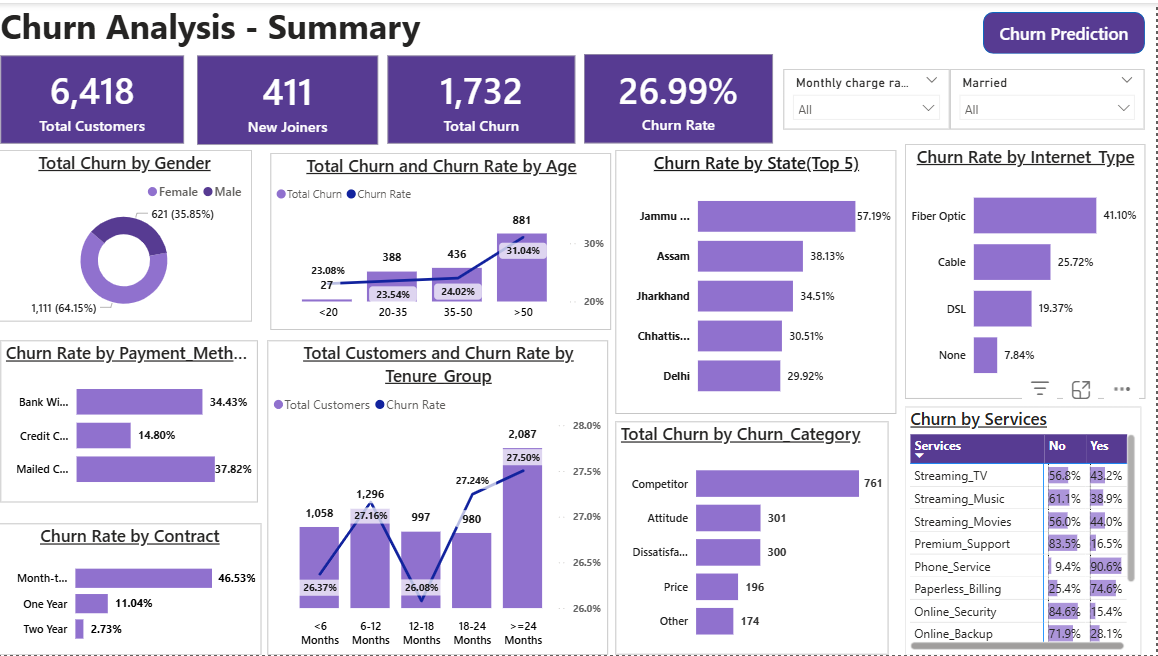

This screenshot's page, from the dashboard's own definition file:
{"tool":"powerbi","page":{"name":"Summary","canvas":[1280,720],"ordinal":0},"visuals":[{"type":"card","fields":{"Values":["tbl_measures.Churn Rate"]},"box":[650,56.2,208.8,98.8],"z":0},{"type":"card","fields":{"Values":["tbl_measures.Total Churn"]},"box":[432.5,57.5,207.5,97.5],"z":1000},{"type":"card","fields":{"Values":["tbl_measures.New Joiners"]},"box":[221.2,57.5,200,98.8],"z":2000},{"type":"card","fields":{"Values":["tbl_measures.Total Customers"]},"box":[5,57.5,202.5,97.5],"z":3000},{"type":"donutChart","fields":{"Category":["prod_Churn.Gender"],"Y":["tbl_measures.Total Churn"]},"box":[0,162.6,282.5,189.5],"z":4000},{"type":"lineStackedColumnComboChart","title":"Total Churn and Churn Rate by Age","fields":{"Category":["mapping_agegrp.Age_Group"],"Y":["tbl_measures.Total Churn"],"Y2":["tbl_measures.Churn Rate"]},"box":[302.5,165,376.2,195],"z":5000},{"type":"clusteredBarChart","fields":{"Category":["prod_Churn.Payment_Method"],"Y":["tbl_measures.Churn Rate"]},"box":[5,372.5,283.8,178.8],"z":6000},{"type":"clusteredBarChart","fields":{"Category":["prod_Churn.Contract"],"Y":["tbl_measures.Churn Rate"]},"box":[1.2,574.7,291,145.5],"z":7000},{"type":"lineStackedColumnComboChart","fields":{"Category":["mappingTenure_Grp.Tenure_Group"],"Y":["tbl_measures.Total Customers"],"Y2":["tbl_measures.Churn Rate"]},"box":[300,372.5,376.2,347.5],"z":8000},{"type":"clusteredBarChart","title":"Churn Rate by State(Top 5)","fields":{"Category":["prod_Churn.State"],"Y":["tbl_measures.Churn Rate"]},"box":[683.8,162.5,310,291.2],"z":9000},{"type":"clusteredBarChart","fields":{"Category":["prod_Churn.Churn_Category"],"Y":["tbl_measures.Total Churn"]},"box":[683.8,462.5,301.2,257.5],"z":10000},{"type":"clusteredBarChart","fields":{"Category":["prod_Churn.Internet_Type"],"Y":["tbl_measures.Churn Rate"]},"box":[1003.8,155,265,281.2],"z":11000},{"type":"pivotTable","title":"Churn by Services","fields":{"Rows":["prod_Services.Services"],"Columns":["prod_Services.Status"],"Values":["Sum(prod_Services.Churn Status)"]},"box":[1003.9,445.1,260.5,275.1],"z":12000},{"type":"slicer","fields":{"Values":["prod_Services.Monthly Charge Status"]},"box":[870,73.6,183.2,66.4],"z":13000},{"type":"slicer","fields":{"Values":["prod_Services.Married"]},"box":[1053.2,73.6,215,66.4],"z":14000},{"type":"textbox","box":[0,0,691.2,91.2],"z":15000},{"type":"shape","box":[1089.3,10.1,178.9,46.2],"z":16000}]}

Visuals, with their boxes in screenshot pixels (x1, y1, x2, y2), scaled from the page's 1280x720 canvas onto the 1158x656 screenshot:
card - tbl_measures.Churn Rate: box(588, 51, 777, 141)
card - tbl_measures.Total Churn: box(391, 52, 579, 141)
card - tbl_measures.New Joiners: box(200, 52, 381, 142)
card - tbl_measures.Total Customers: box(5, 52, 188, 141)
donutChart - prod_Churn.Gender x tbl_measures.Total Churn: box(0, 148, 256, 321)
"Total Churn and Churn Rate by Age" lineStackedColumnComboChart: box(274, 150, 614, 328)
clusteredBarChart - prod_Churn.Payment_Method x tbl_measures.Churn Rate: box(5, 339, 261, 502)
clusteredBarChart - prod_Churn.Contract x tbl_measures.Churn Rate: box(1, 524, 264, 655)
lineStackedColumnComboChart - mappingTenure_Grp.Tenure_Group x tbl_measures.Total Customers: box(271, 339, 612, 655)
"Churn Rate by State(Top 5)" clusteredBarChart: box(619, 148, 899, 413)
clusteredBarChart - prod_Churn.Churn_Category x tbl_measures.Total Churn: box(619, 421, 891, 655)
clusteredBarChart - prod_Churn.Internet_Type x tbl_measures.Churn Rate: box(908, 141, 1148, 397)
"Churn by Services" pivotTable: box(908, 406, 1144, 655)
slicer - prod_Services.Monthly Charge Status: box(787, 67, 953, 128)
slicer - prod_Services.Married: box(953, 67, 1147, 128)
textbox: box(0, 0, 625, 83)
shape: box(985, 9, 1147, 51)
